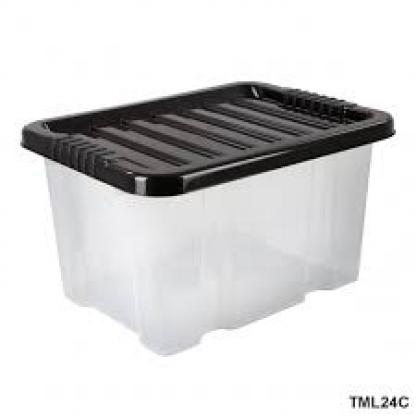plastic_box: (15, 74, 397, 359)
